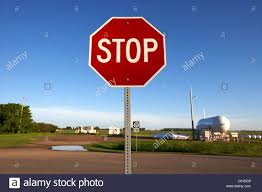Stop: (97, 15, 169, 84)
